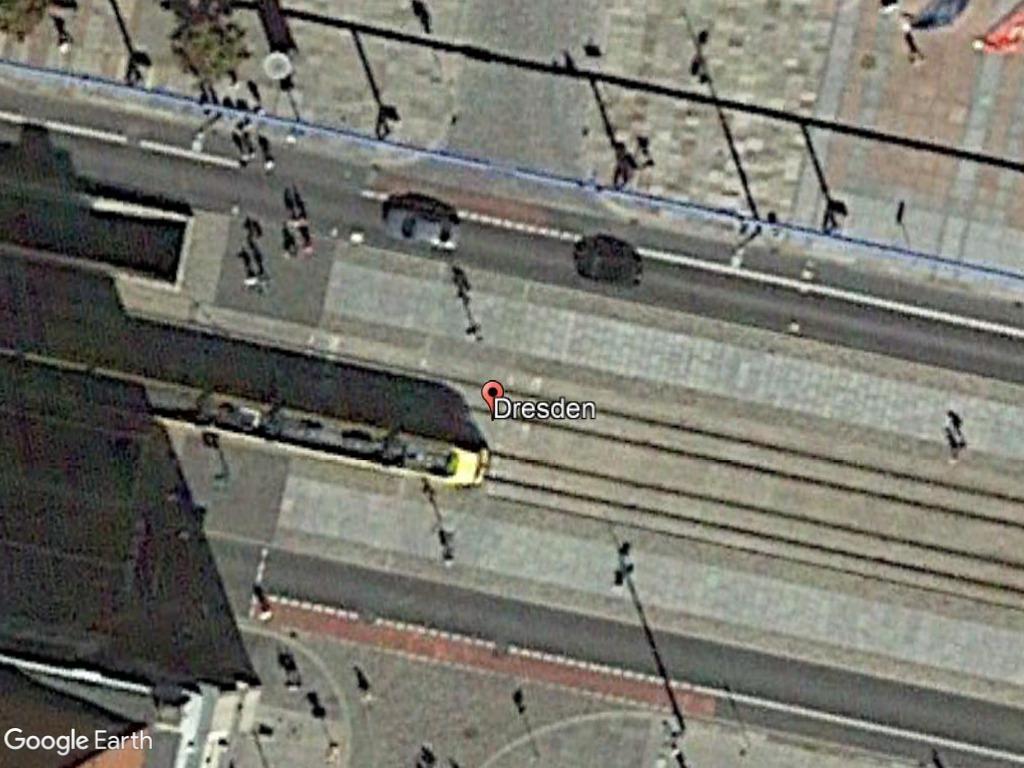car: (381, 202, 472, 258)
